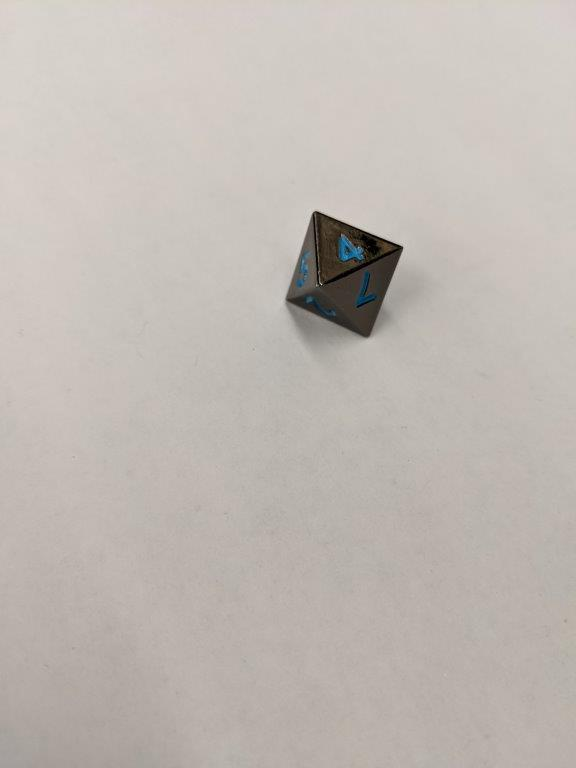d8-4: (281, 209, 405, 337)
